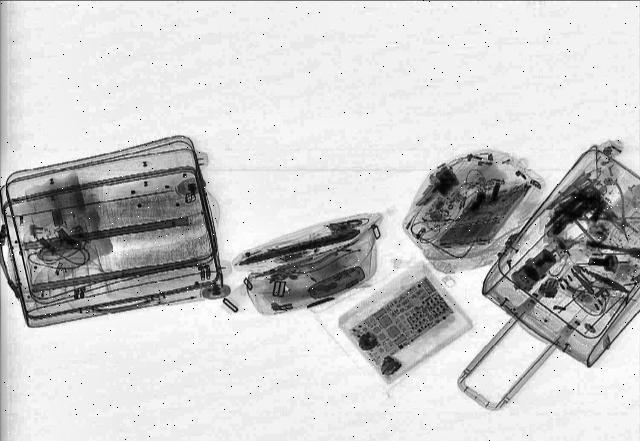Pliers: (568, 184, 638, 228)
